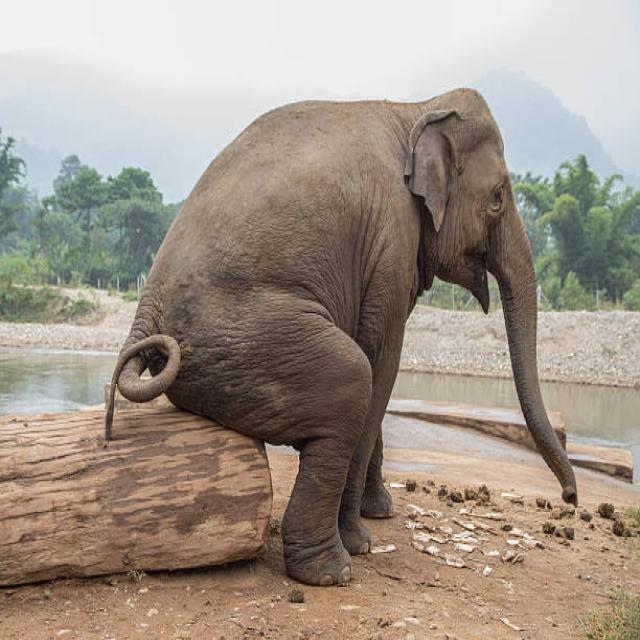Elephant: (111, 68, 588, 578)
